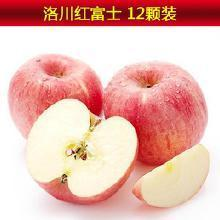apple: (27, 97, 137, 205), (103, 62, 209, 163), (7, 52, 103, 141), (133, 144, 212, 209)
